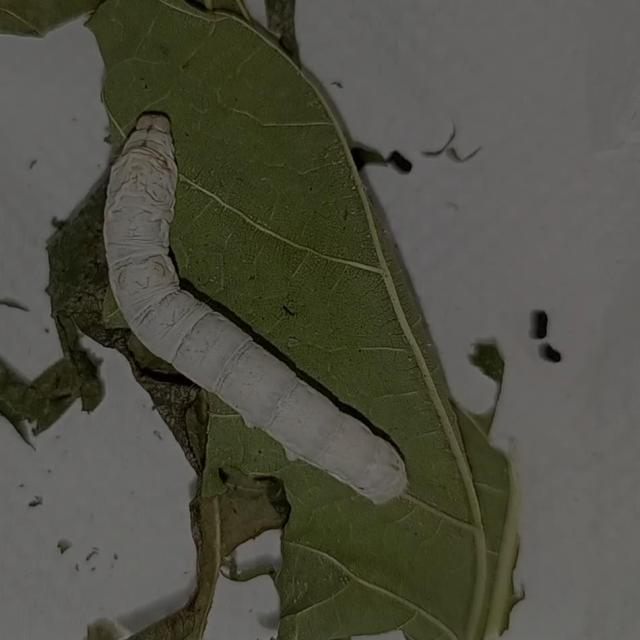Healthy: (89, 101, 426, 513)
